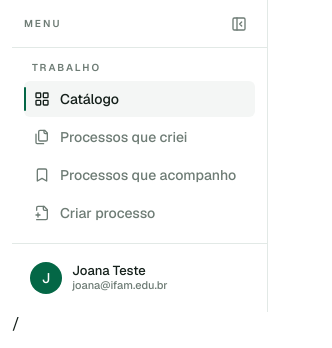
it: <Sidebar /> › USER autenticado: mostra atalhos de processos e dropdown de perfil, sem seção admin
Click the button with aria-label "Menu do usuário" at x=140, y=278, box top-left (24, 256), bottom-right (255, 300)
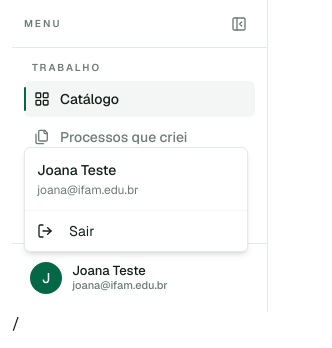
Expected: the text "joana@ifam.edu.br" is shown 2 times, top-left (72, 278), bottom-right (168, 292); top-left (37, 182), bottom-right (138, 198)
Result: the menu item "Sair" is shown at top-left (37, 222), bottom-right (94, 240)
